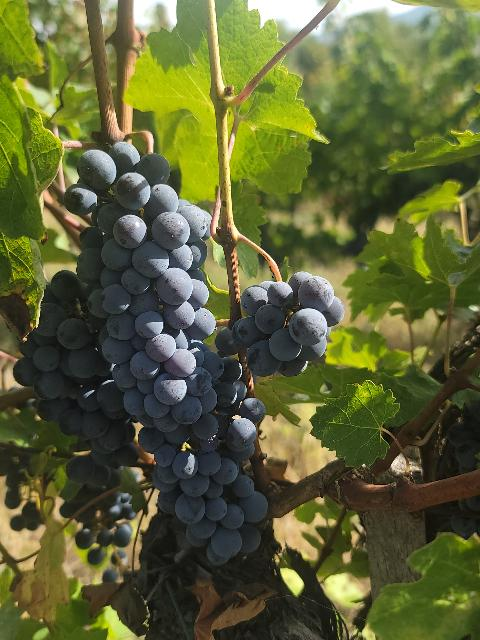grapes: (65, 141, 240, 531), (14, 270, 135, 462), (231, 271, 345, 376)
